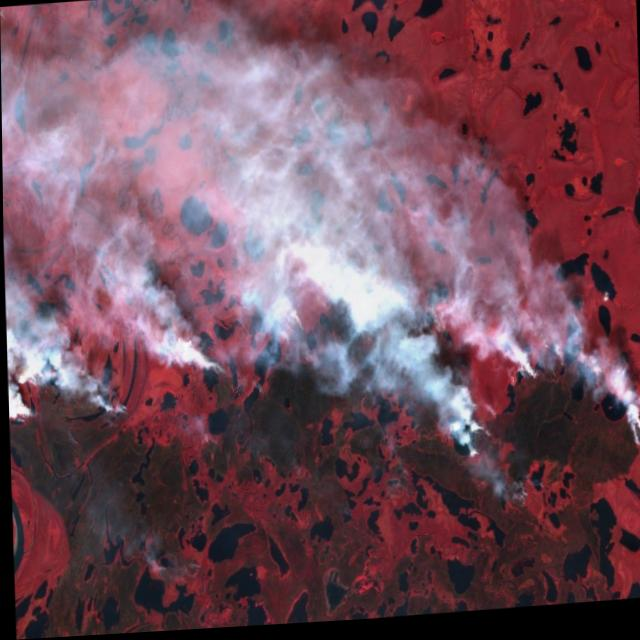fire: (3, 264, 640, 559)
